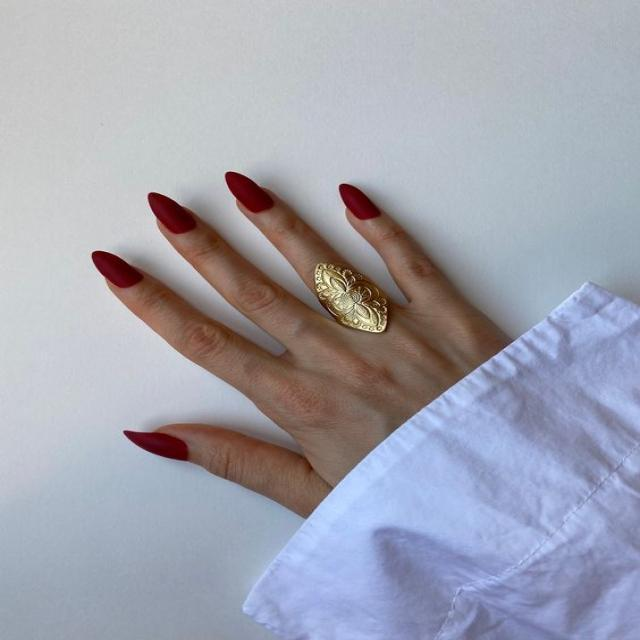Fingernail: (148, 192, 196, 234), (124, 432, 187, 462), (91, 251, 142, 288), (226, 173, 273, 213), (340, 184, 378, 220)
